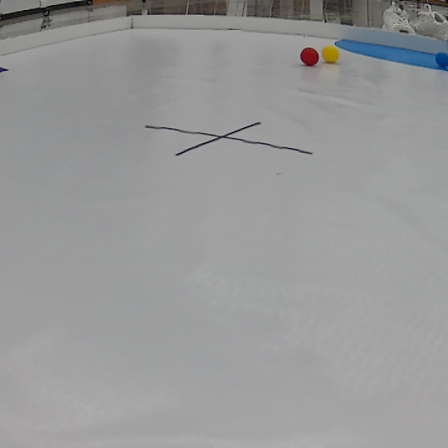blue: (435, 47, 448, 68)
blue_base: (323, 35, 448, 77)
red: (299, 47, 321, 69)
yellow: (320, 44, 343, 66)
